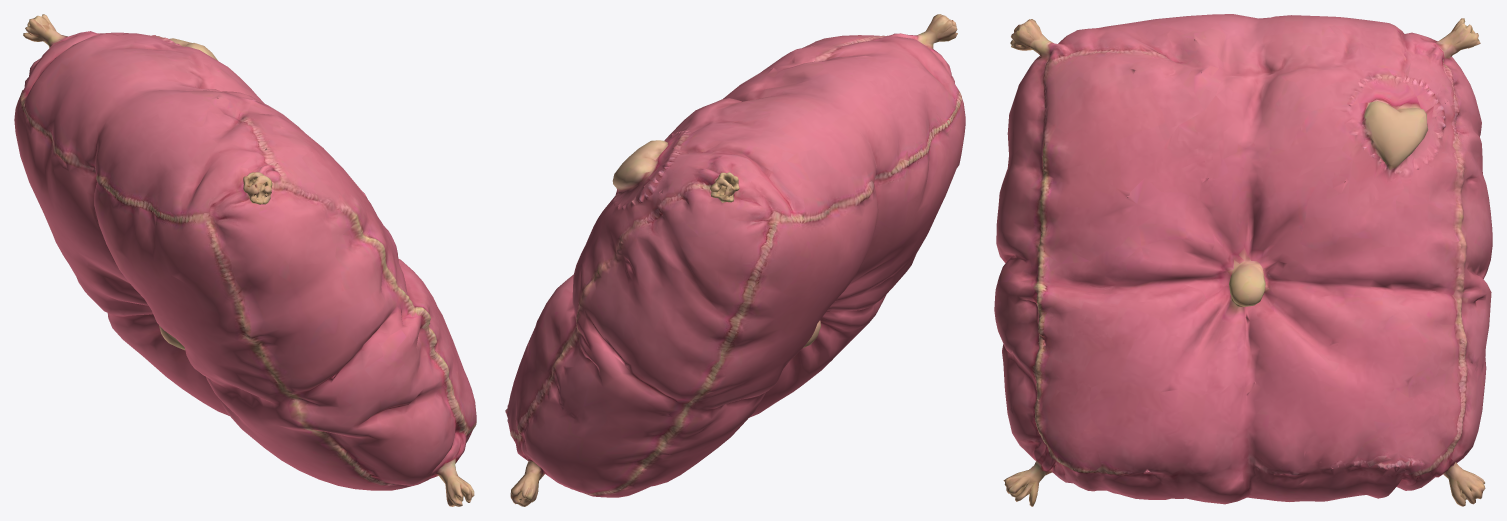
File: room-floor-cushion.glb
3 views of the same model, side by side, from view 1: azimuth 30°, elevation 25°; view 2: azimuth 150°, elevation 25°; view 3: azimuth 270°, elevation 25° (orthographic).
Visible parts, largest first — view 1: tripo_node_16a0dc4a-1b84-4eb2-9bdd-e1be731412d1; view 2: tripo_node_16a0dc4a-1b84-4eb2-9bdd-e1be731412d1; view 3: tripo_node_16a0dc4a-1b84-4eb2-9bdd-e1be731412d1.
Boxes of the visible parts, x1,y1,x2,y2 form: tripo_node_16a0dc4a-1b84-4eb2-9bdd-e1be731412d1: [14, 14, 476, 506]; tripo_node_16a0dc4a-1b84-4eb2-9bdd-e1be731412d1: [505, 14, 965, 506]; tripo_node_16a0dc4a-1b84-4eb2-9bdd-e1be731412d1: [994, 14, 1492, 506].
Bounding box in the file's own units: 0.737 × 0.8459 × 0.9708.
1 material, 1 textured.
